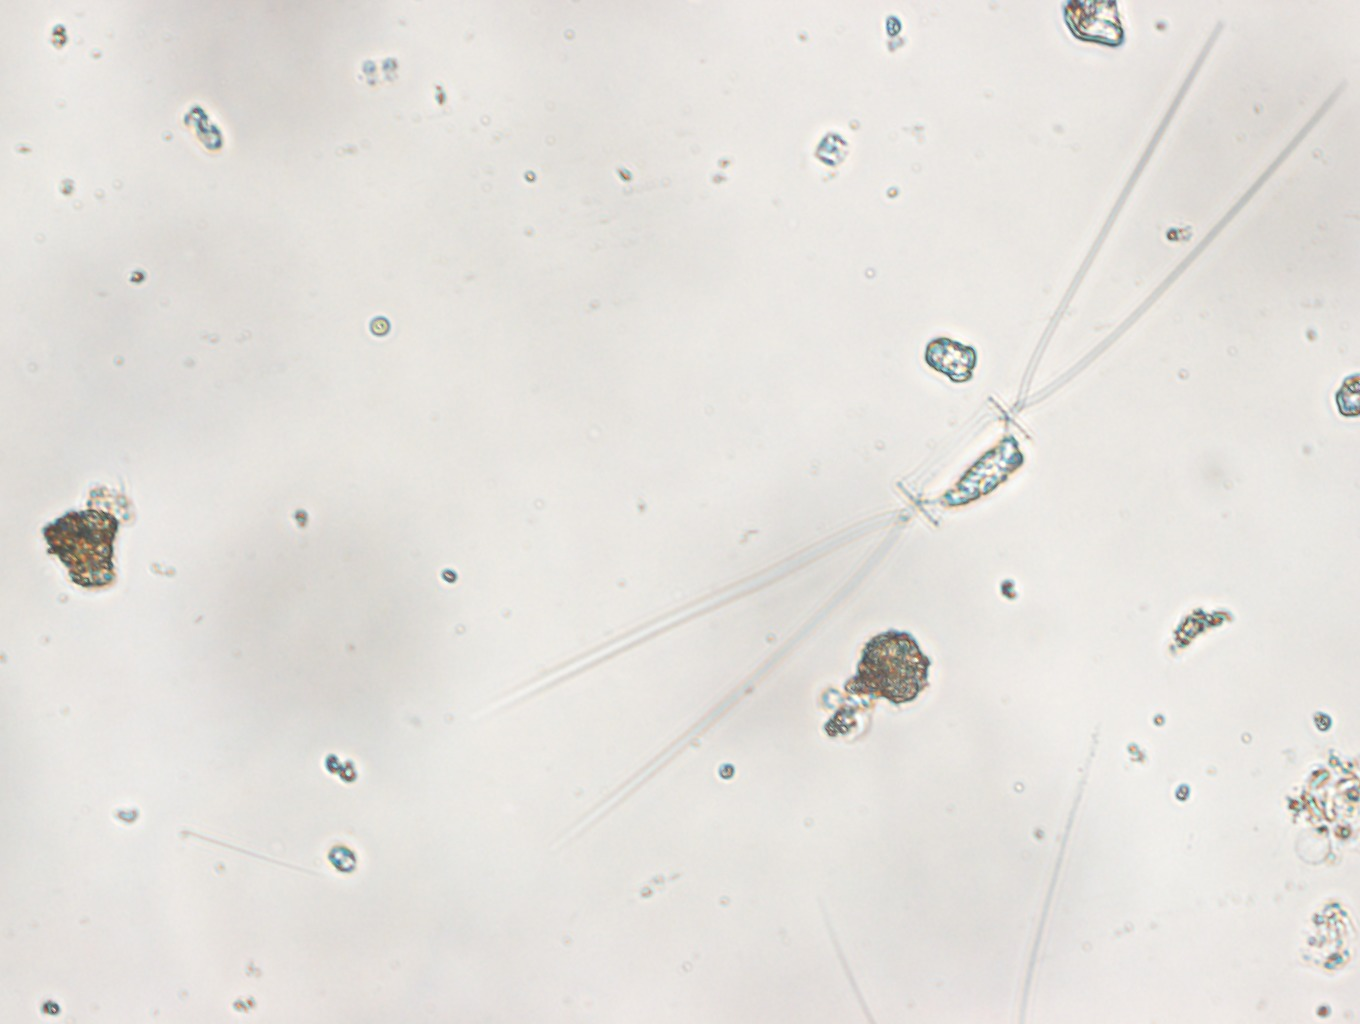chaetoceros: (525, 40, 1332, 834)
